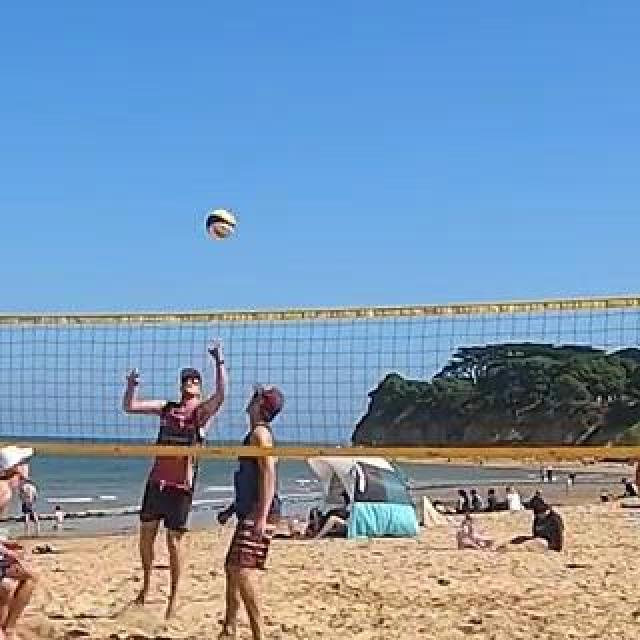volleyball: (208, 215, 236, 241)
